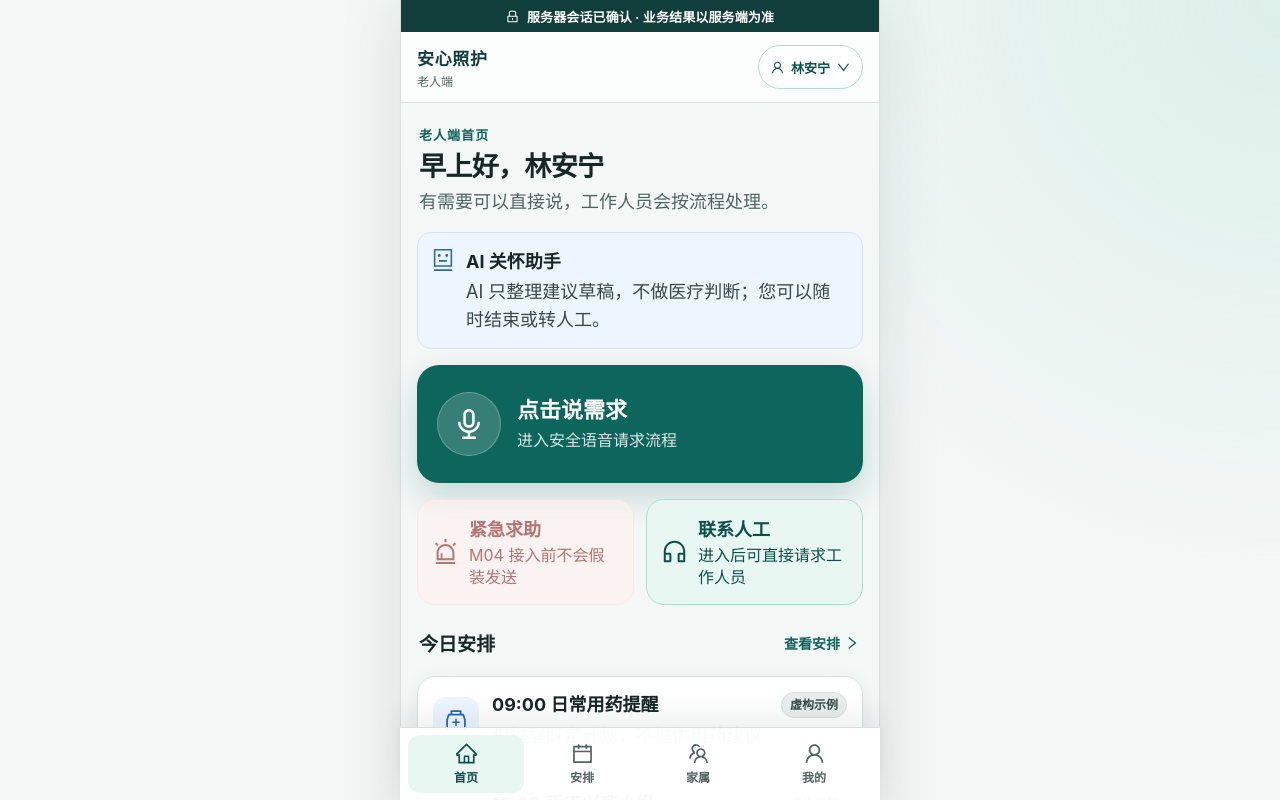
Test case: MobileExperience › navigates to the explicit elder voice workflow and supports an end action
The width and height of the screenshot is (1280, 800).
Click the button "点击说需求 进入安全语音请求流程" at (469, 424), box [417, 365, 863, 483]
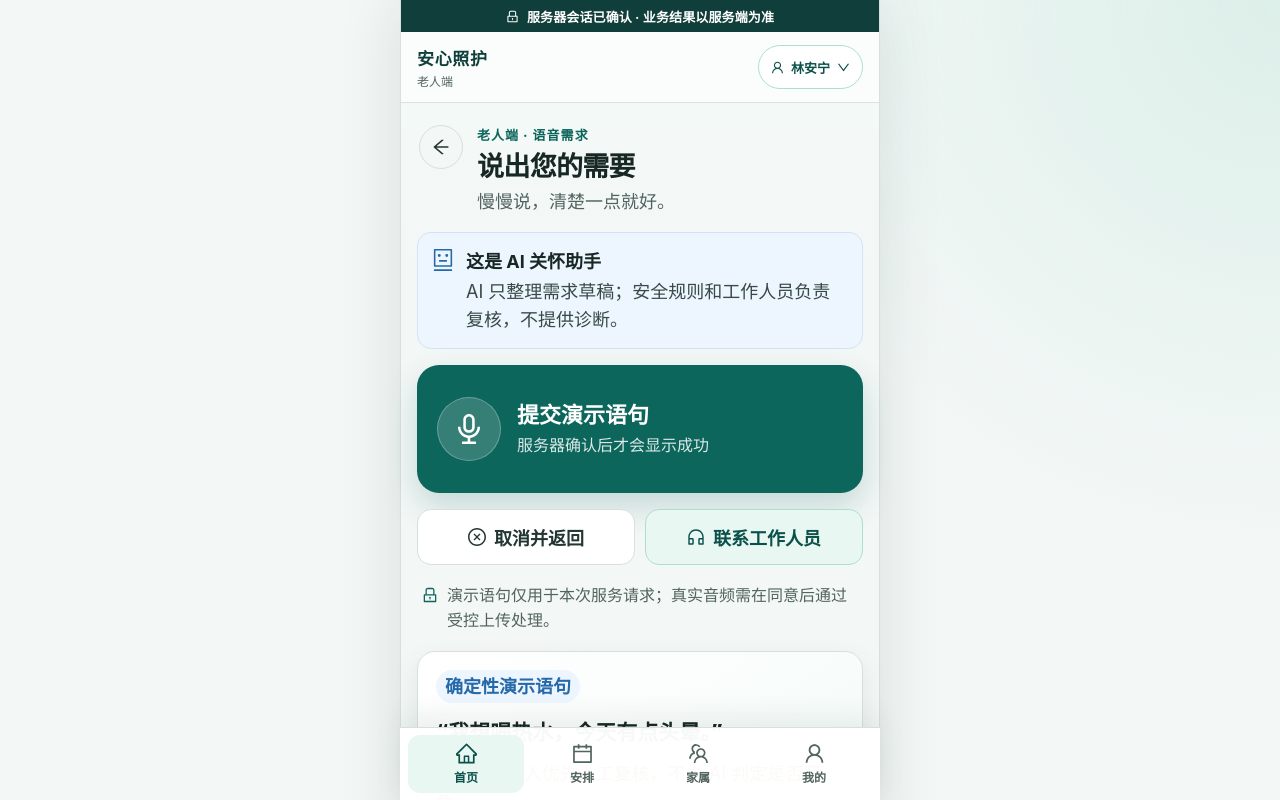
Check: the heading "说出您的需要" is shown, box [477, 150, 635, 183]
Check: the text "这是 AI 关怀助手" is shown, box [466, 251, 601, 272]
Check: the button "取消并返回" is shown, box [417, 509, 635, 565]
